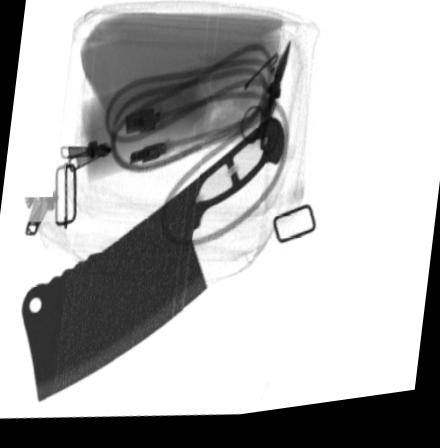Knife: (21, 123, 286, 406)
Scissors: (237, 48, 290, 164)
